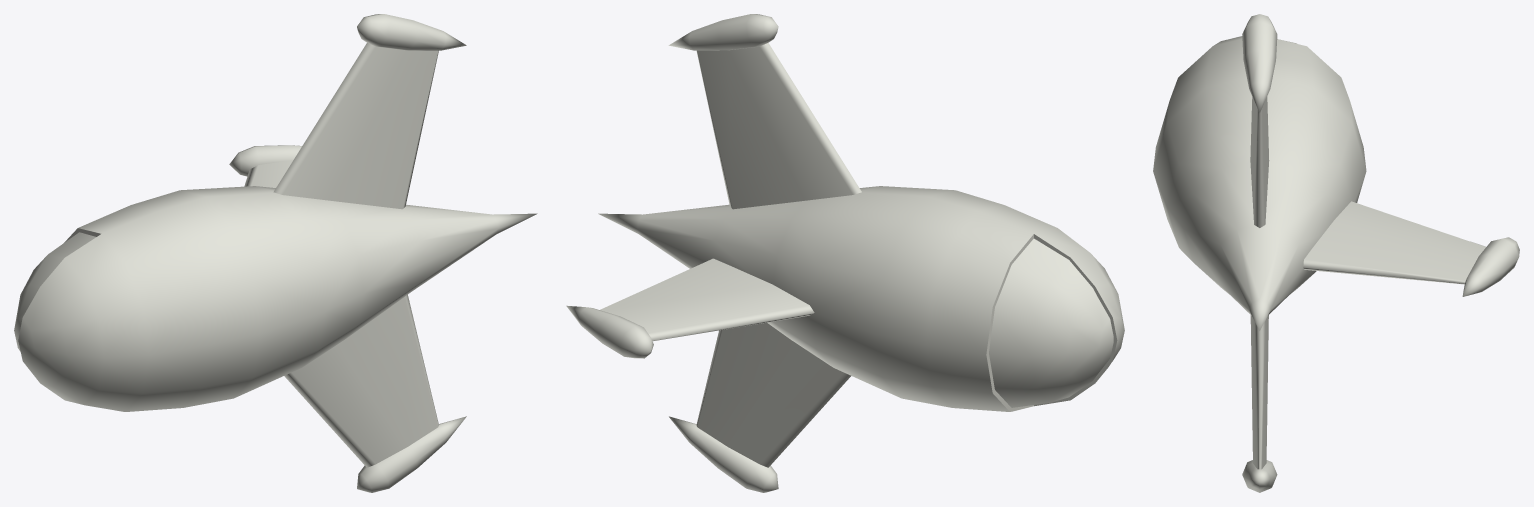
Rendered from rocket.fbx.
3 views of the same model, side by side, from view 1: azimuth 30°, elevation 25°; view 2: azimuth 150°, elevation 25°; view 3: azimuth 270°, elevation 25° (orthographic).
Visible parts, largest first — view 1: node_id38, node_id40; view 2: node_id38, node_id40; view 3: node_id38.
Part boxes in pixels (x1=…): node_id38: x1=18, y1=14, x2=537, y2=492; node_id40: x1=14, y1=232, x2=96, y2=351; node_id38: x1=566, y1=14, x2=1124, y2=492; node_id40: x1=989, y1=238, x2=1113, y2=407; node_id38: x1=1153, y1=14, x2=1519, y2=492.
Size of the model in its own units: 0.512 by 0.4476 by 0.3156.
Materials: 2 (2 with a texture image).
